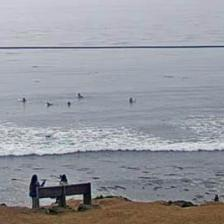surfer: (77, 92, 84, 98), (46, 102, 53, 107), (129, 97, 134, 103), (66, 101, 71, 107), (21, 97, 26, 102)
